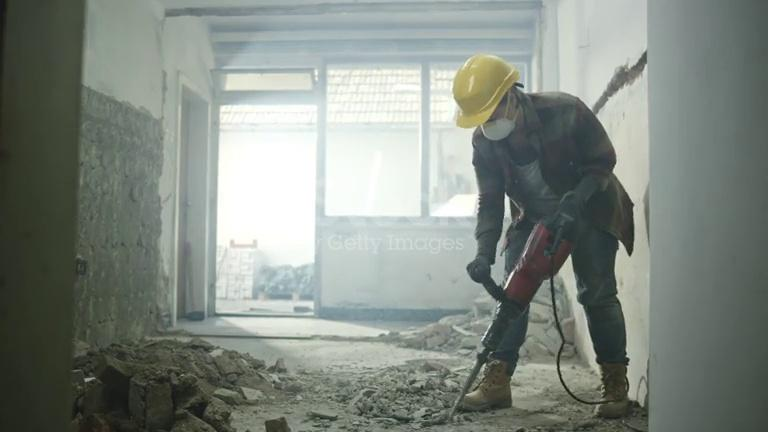helmet: (450, 53, 521, 129)
mask: (478, 117, 515, 142)
person: (449, 52, 635, 420)
